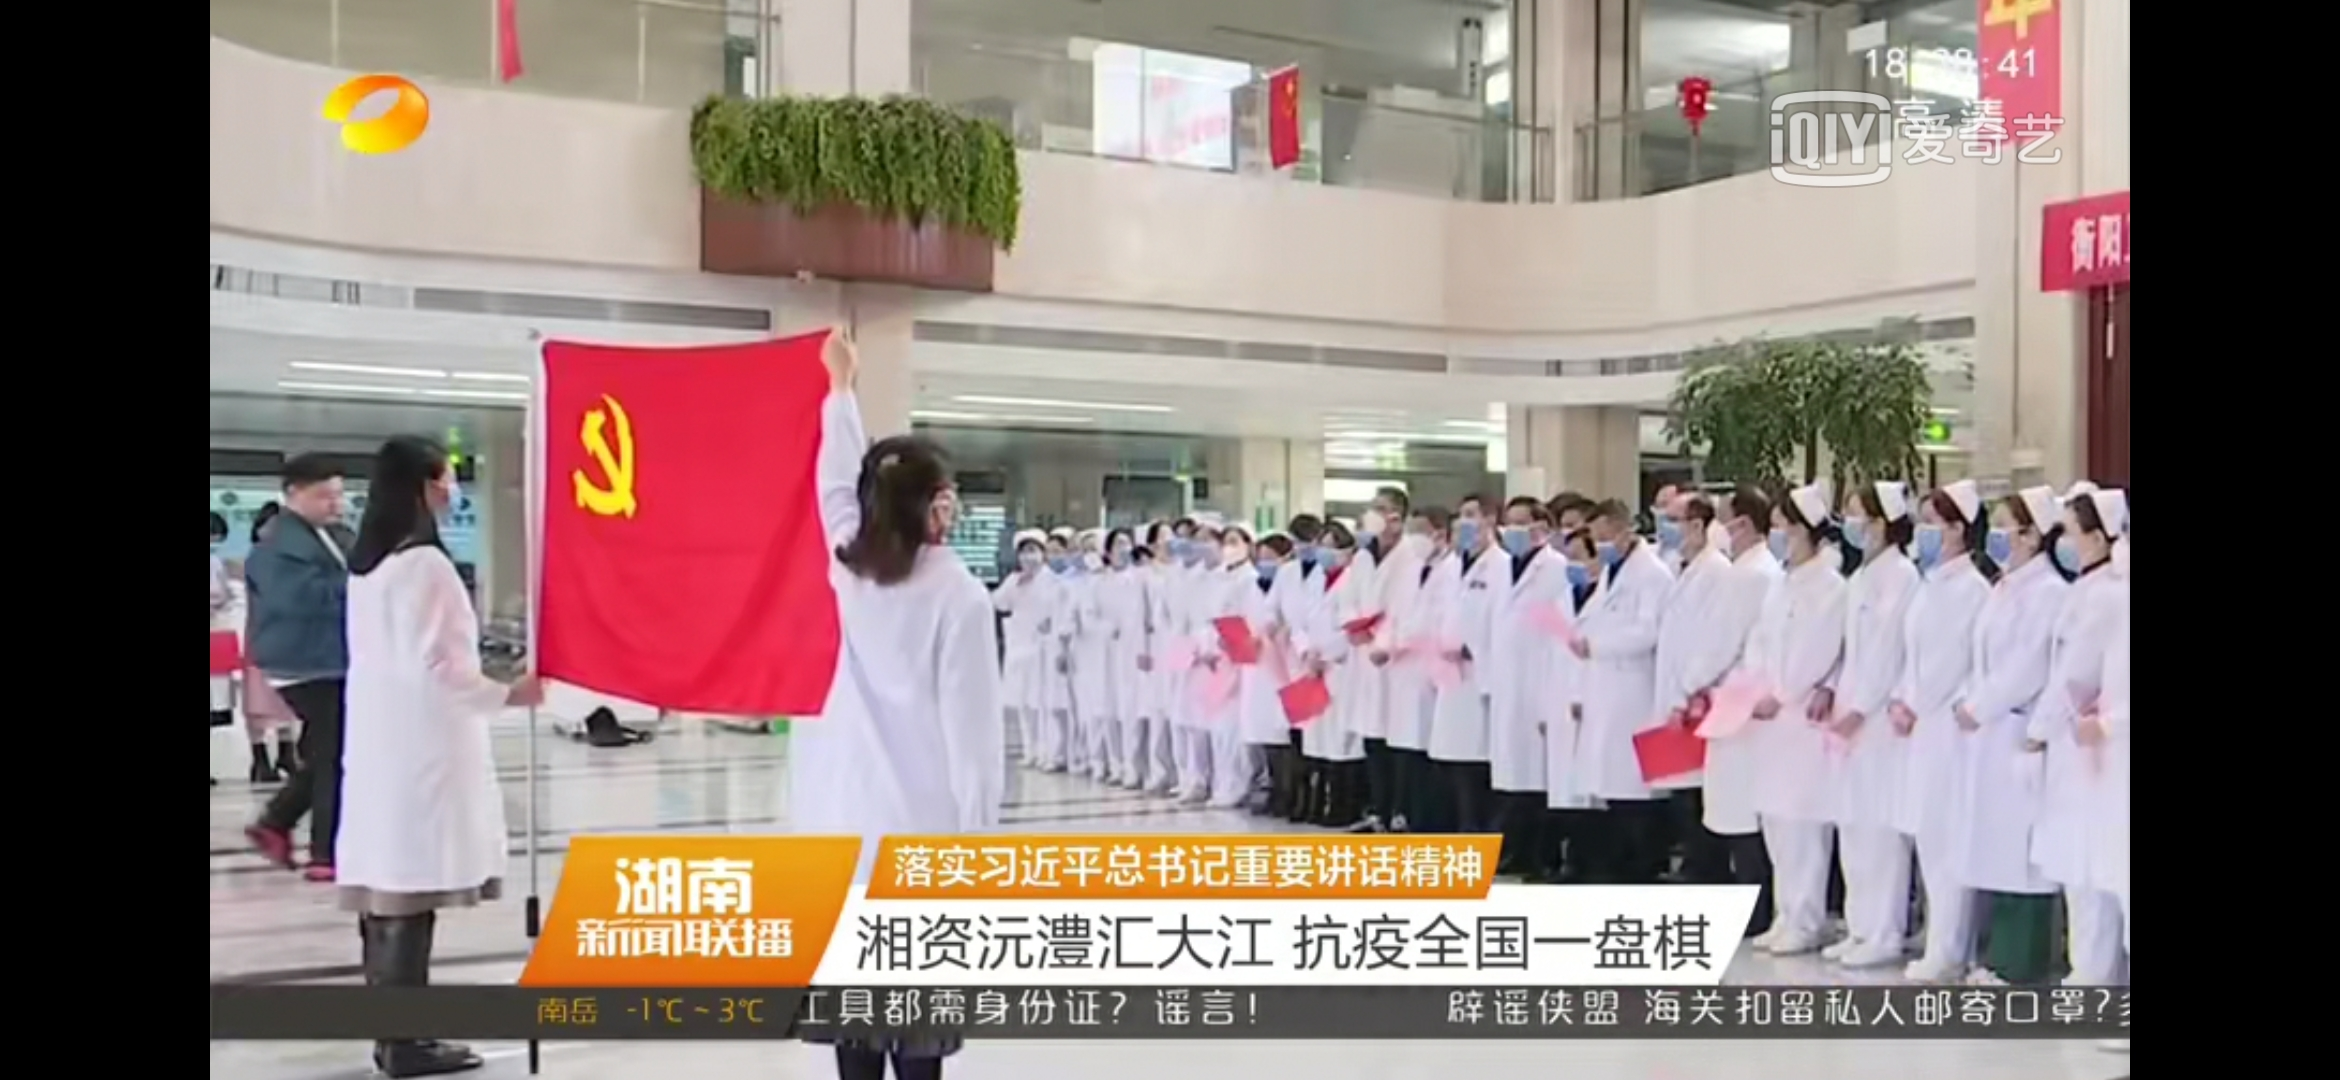correctlyWear: (2056, 518, 2109, 577), (1912, 512, 1965, 562), (1839, 503, 1889, 556), (425, 462, 464, 530), (1986, 515, 2030, 570), (1707, 509, 1756, 556), (1495, 512, 1542, 559), (1661, 510, 1704, 558), (1451, 512, 1495, 556), (1767, 516, 1810, 562), (1591, 525, 1634, 565), (1363, 501, 1401, 543), (1403, 525, 1446, 562), (1565, 547, 1595, 592), (1222, 527, 1251, 568), (1254, 549, 1283, 588), (1016, 537, 1043, 577), (1042, 541, 1070, 577), (1079, 533, 1101, 576), (1319, 536, 1345, 571), (1294, 524, 1318, 561), (1173, 528, 1195, 562), (1198, 534, 1221, 567), (1107, 536, 1130, 567)
noWear: (284, 477, 348, 530)
